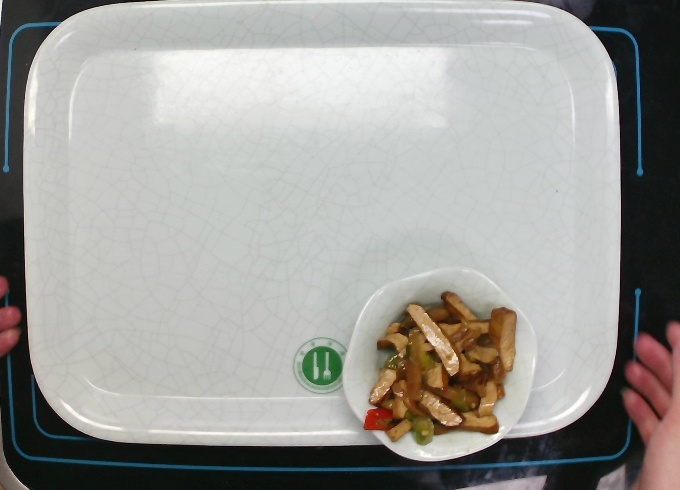WCQzf-Hua_Duo_Wan: (336, 263, 541, 466)
